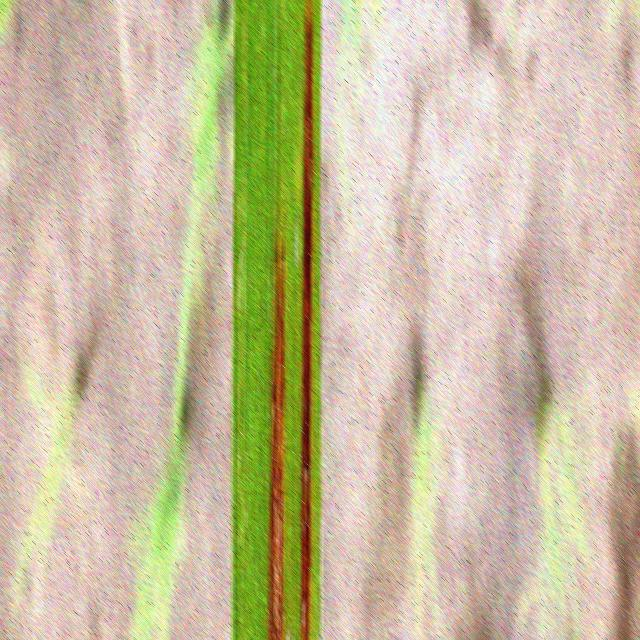NBS: (301, 0, 312, 640), (268, 235, 284, 640), (286, 632, 290, 640)
